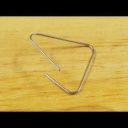Metal: (20, 24, 107, 100)
